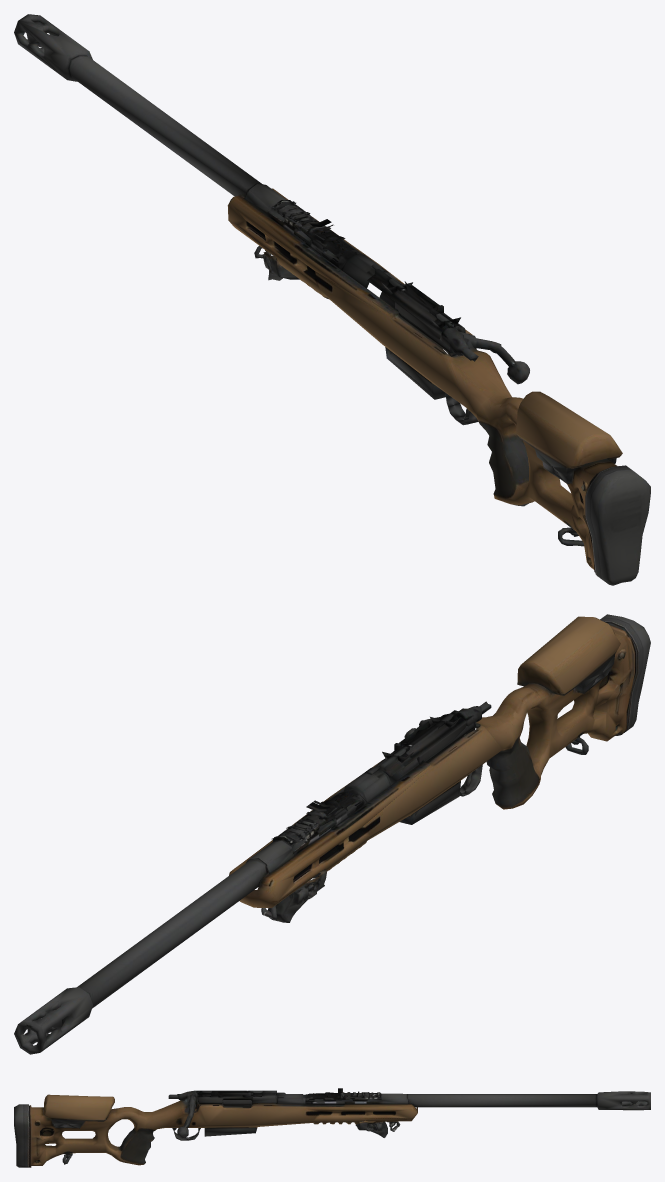
The picture shows the model from 3 angles, top to bottom: view 1: azimuth 30°, elevation 25°; view 2: azimuth 150°, elevation 25°; view 3: azimuth 270°, elevation 25°; orthographic projection. The views are drawn at different scales.
Visible parts, largest first — view 1: furniture, body; view 2: furniture, body; view 3: furniture, body, bolt.
Boxes of the visible parts, bbox=[...] form: furniture: bbox=[227, 200, 650, 585]; body: bbox=[14, 14, 492, 361]; furniture: bbox=[229, 614, 650, 922]; body: bbox=[14, 701, 491, 1054]; furniture: bbox=[14, 1094, 417, 1167]; body: bbox=[168, 1088, 650, 1112]; bolt: bbox=[177, 1113, 193, 1138].
Size of the model in its own units: 0.0991 by 0.1659 by 1.18.
2 materials, 2 textured.
